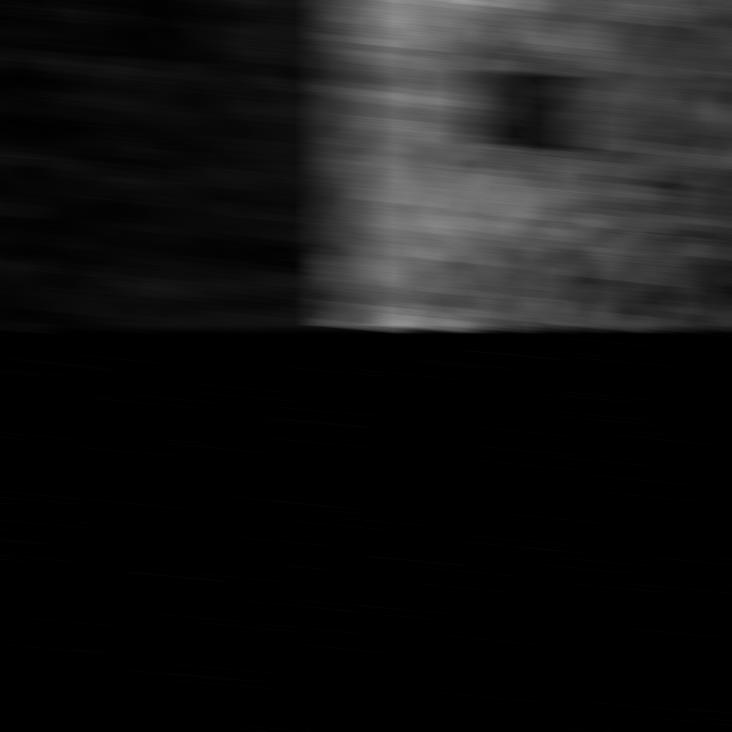Airbag: (332, 0, 732, 330), (0, 0, 356, 330)
